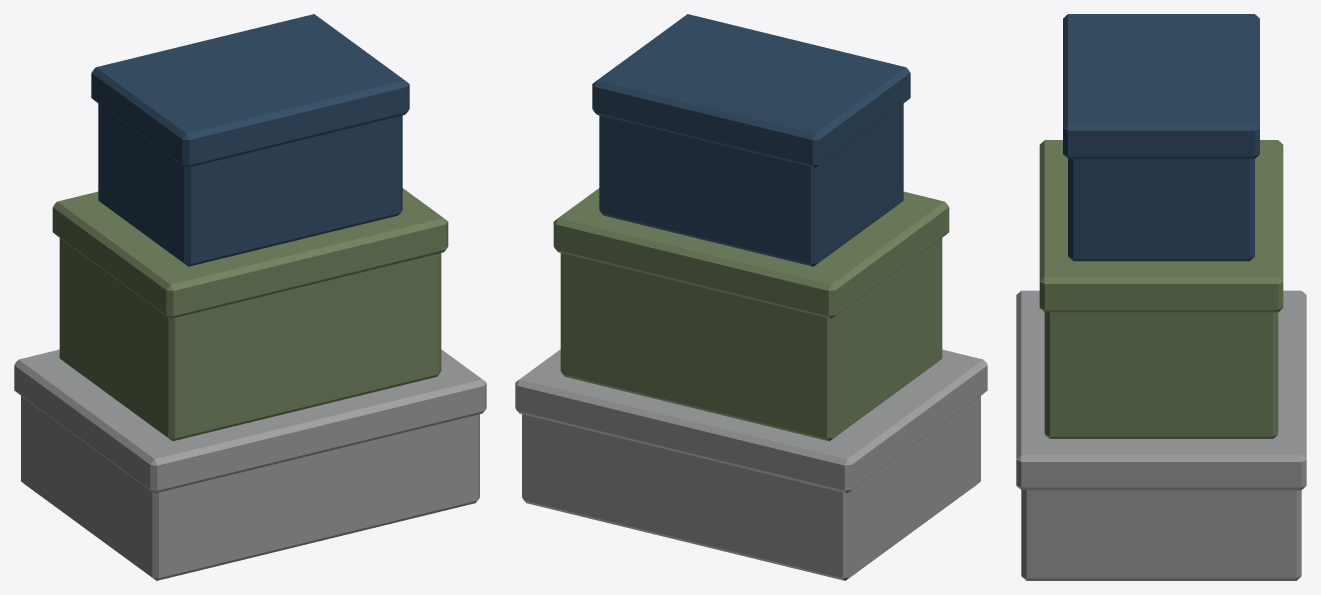
The model's file is i_boxes_1.glb.
3 views of the same model, side by side, from view 1: azimuth 30°, elevation 25°; view 2: azimuth 150°, elevation 25°; view 3: azimuth 270°, elevation 25° (orthographic). The views are drawn at different scales.
Visible parts, largest first — view 1: o.002, o.004, o, o.001, o.003, o.005; view 2: o.002, o.004, o, o.001, o.003, o.005; view 3: o.004, o.002, o, o.001, o.003, o.005.
Part boxes in pixels (x1,y1,x2,y2): o.002: [59, 192, 441, 441]; o.004: [98, 17, 402, 266]; o: [21, 352, 479, 580]; o.001: [14, 349, 486, 493]; o.003: [52, 188, 448, 318]; o.005: [91, 14, 409, 167]; o.002: [560, 192, 942, 441]; o.004: [599, 17, 903, 266]; o: [522, 352, 980, 580]; o.001: [515, 349, 987, 493]; o.003: [553, 188, 949, 318]; o.005: [592, 14, 910, 167]; o.004: [1068, 16, 1254, 261]; o.002: [1044, 142, 1278, 438]; o: [1021, 292, 1301, 580]; o.001: [1016, 290, 1306, 490]; o.003: [1039, 140, 1283, 312]; o.005: [1063, 14, 1259, 158].
Bounding box in the file's own units: 0.308 × 0.3676 × 0.224.
